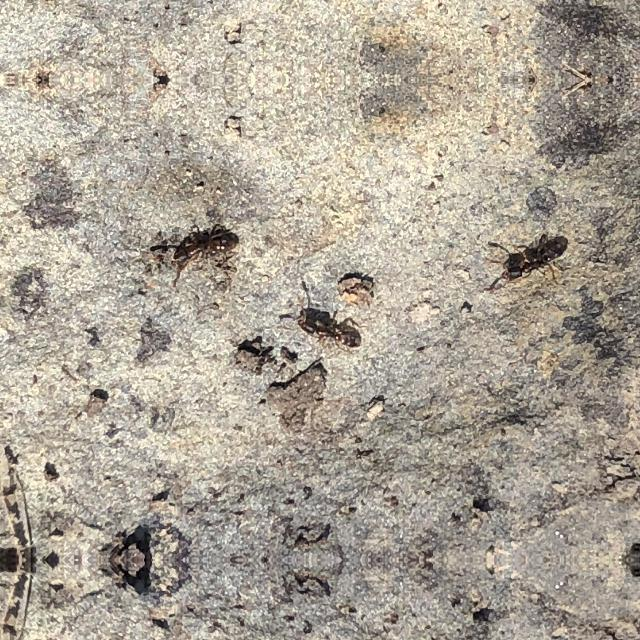Ponera: (154, 218, 264, 296), (484, 228, 576, 304), (292, 293, 366, 352)
